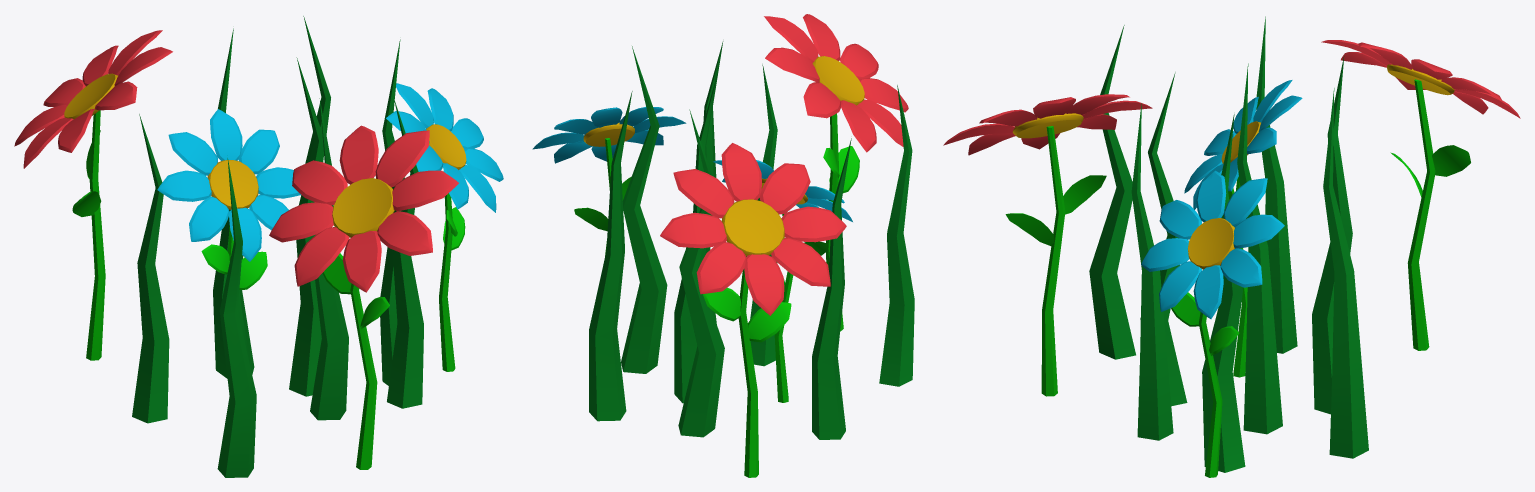
File: Flower2.fbx
3 renders of one model, left to right at view 1: azimuth 30°, elevation 25°; view 2: azimuth 150°, elevation 25°; view 3: azimuth 270°, elevation 25°, orthographic. The views are drawn at different scales.
Visible parts, largest first — view 1: pCylinder25; view 2: pCylinder25; view 3: pCylinder25.
Boxes of the visible parts, <box> form: pCylinder25: <box>14,16,503,477</box>; pCylinder25: <box>532,14,914,477</box>; pCylinder25: <box>943,16,1520,477</box>.
Size of the model in its own units: 16.84 by 14.27 by 21.17.
